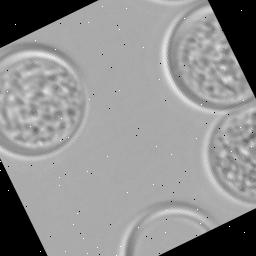picoshell: (161, 1, 253, 114), (0, 43, 87, 158), (202, 102, 256, 208), (118, 202, 216, 256)
